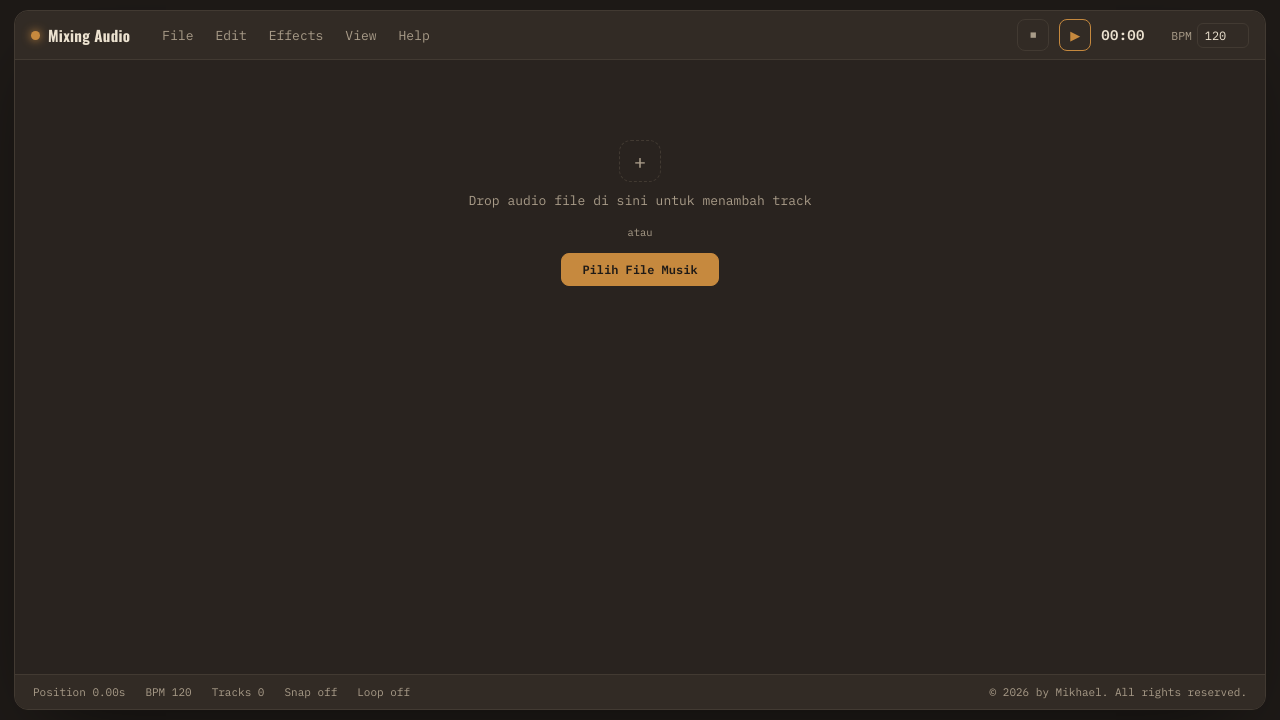
it: Mixing Audio — UI & Functional › Effects menu opens with all groups
The image size is (1280, 720).
Step 1. Click the text "Effects" → (296, 35), box [269,26,323,44]
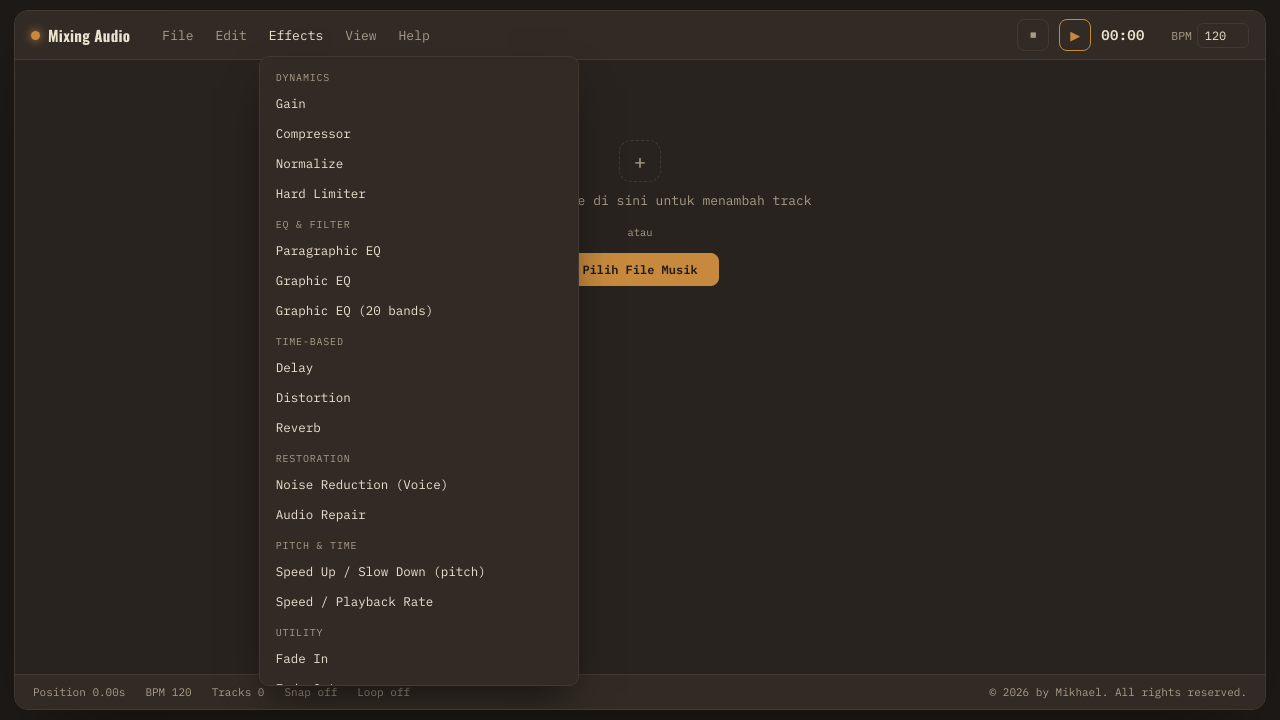
Now the element with class "wide" is shown, box [259,56,579,686]
Now the text "Dynamics" is shown, box [276,70,330,84]
Now the text "EQ & Filter" is shown, box [276,218,350,230]
